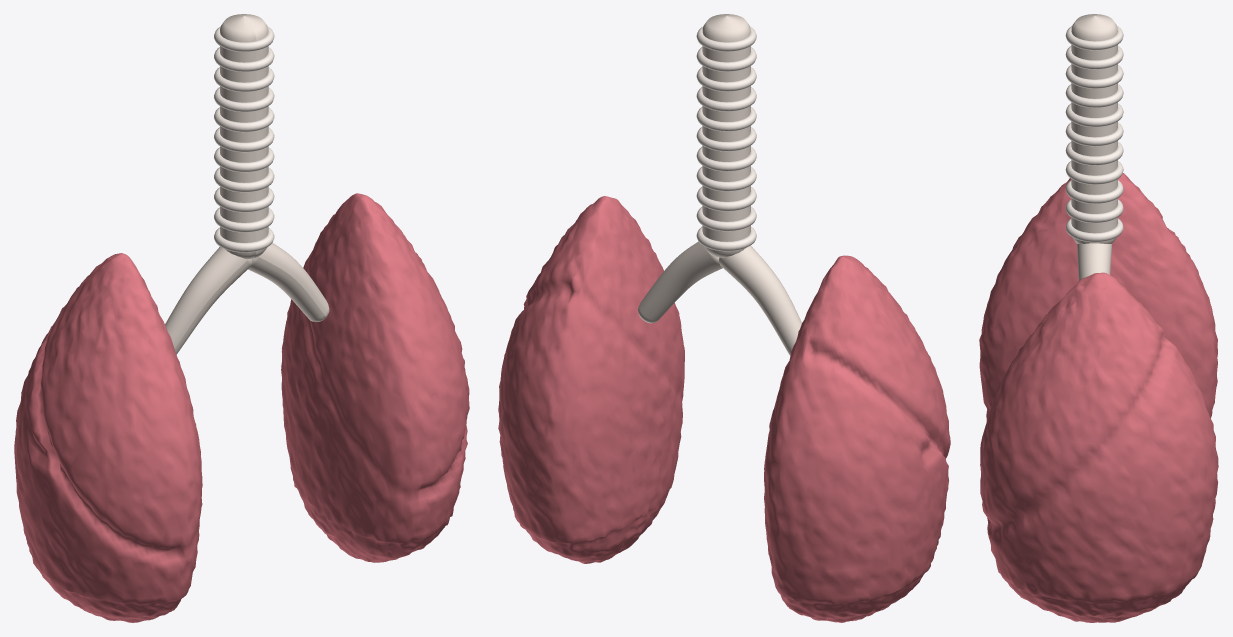
File: respiratorio.glb
3 views of the same model, side by side, from view 1: azimuth 30°, elevation 25°; view 2: azimuth 150°, elevation 25°; view 3: azimuth 270°, elevation 25° (orthographic). The views are drawn at different scales.
Visible parts, largest first — view 1: pulmao_direito, pulmao_esquerdo, pulmoes, traqueia, bronquio_dir, bronquio_esq; view 2: pulmao_direito, pulmao_esquerdo, pulmoes, traqueia, bronquio_dir, bronquio_esq; view 3: pulmao_esquerdo, pulmao_direito, pulmoes, traqueia, bronquio_esq.
Boxes of the visible parts, left/top/right/bottom form: pulmao_direito: left=14, top=253, right=202, bottom=622; pulmao_esquerdo: left=281, top=193, right=469, bottom=562; pulmoes: left=214, top=26, right=274, bottom=252; traqueia: left=220, top=14, right=268, bottom=259; bronquio_dir: left=165, top=246, right=251, bottom=354; bronquio_esq: left=248, top=243, right=329, bottom=321; pulmao_direito: left=764, top=255, right=950, bottom=622; pulmao_esquerdo: left=498, top=196, right=684, bottom=563; pulmoes: left=696, top=26, right=756, bottom=251; traqueia: left=702, top=14, right=750, bottom=257; bronquio_dir: left=719, top=245, right=801, bottom=355; bronquio_esq: left=638, top=241, right=722, bottom=323; pulmao_esquerdo: left=980, top=272, right=1218, bottom=622; pulmao_direito: left=979, top=173, right=1217, bottom=420; pulmoes: left=1065, top=26, right=1123, bottom=242; traqueia: left=1071, top=14, right=1117, bottom=243; bronquio_esq: left=1077, top=243, right=1111, bottom=280.
Bounding box in the file's own units: 0.2292 × 0.3 × 0.1195.
